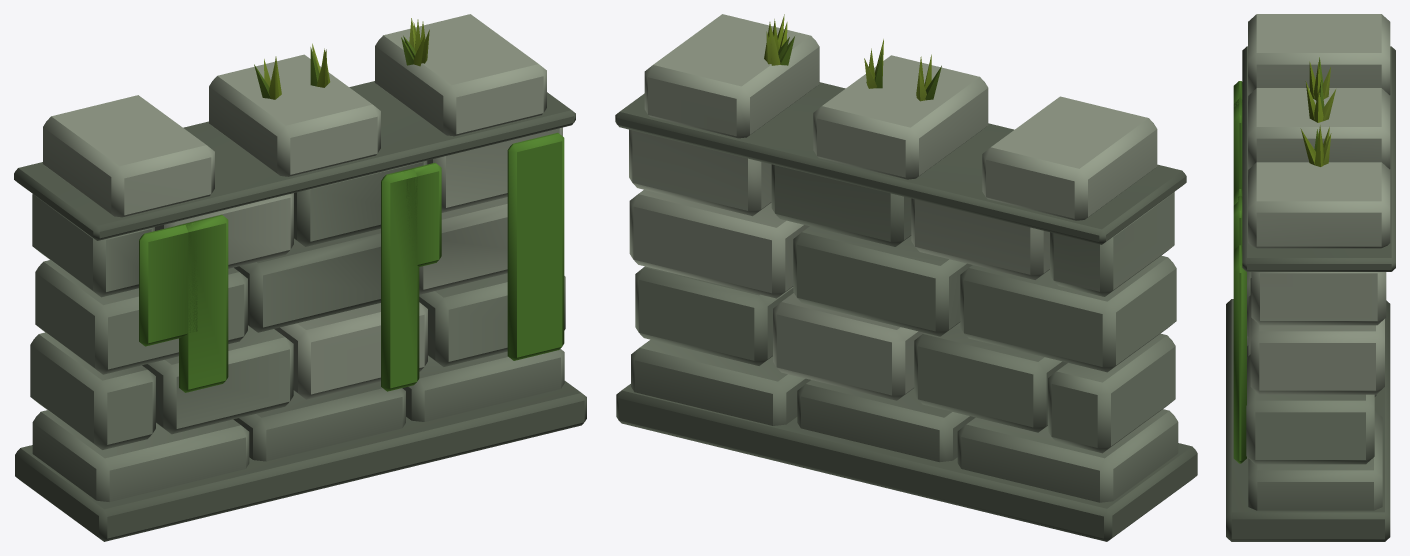
Rendered from mt_wall_1.glb.
The picture shows the model from 3 angles, left to right: view 1: azimuth 30°, elevation 25°; view 2: azimuth 150°, elevation 25°; view 3: azimuth 270°, elevation 25°; orthographic projection. The views are drawn at different scales.
Parts seen in each view (by area): view 1: body; view 2: body; view 3: body.
Boxes of the visible parts, x1,y1,x2,y2 form: body: (14,14,586,541); body: (615,14,1197,541); body: (1226,14,1395,541).
Bounding box in the file's own units: 4.7 × 3.68 × 1.55.
